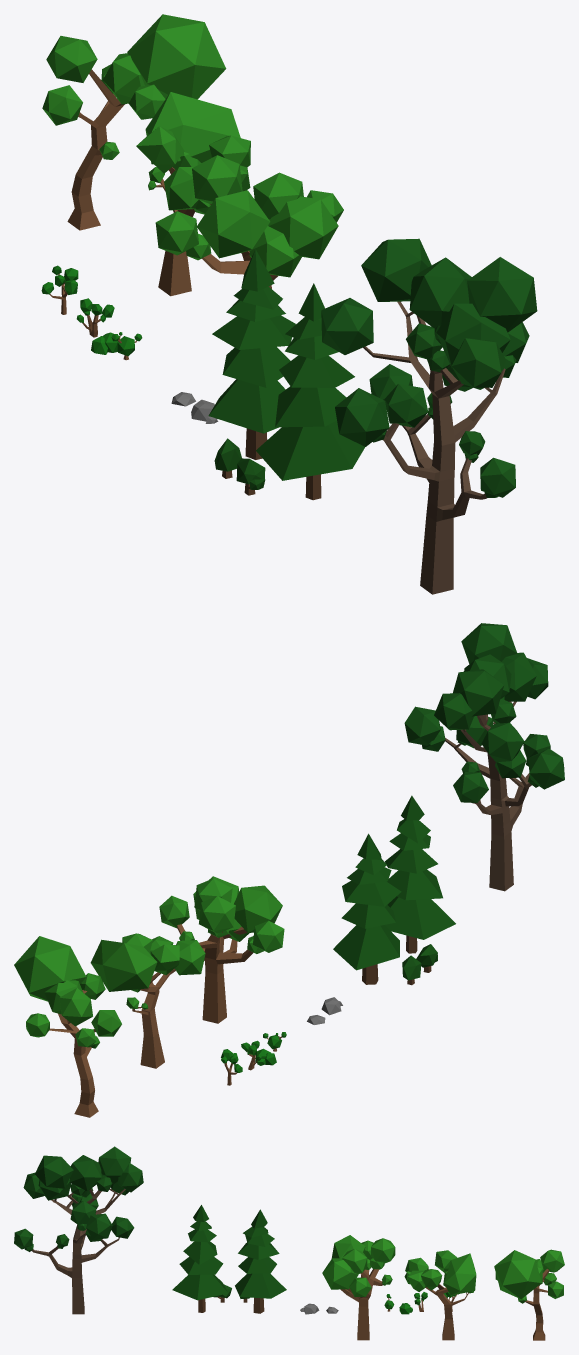
File: MageHunter - Environment(1).fbx
3 renders of one model, top to bottom at view 1: azimuth 30°, elevation 25°; view 2: azimuth 150°, elevation 25°; view 3: azimuth 270°, elevation 25°, orthographic. The views are drawn at different scales.
Parts seen in each view (by area): view 1: Icosphere.024, Cube.002, Tree_1, Tree_2, Tree_2.001, Cube, Cube.003, Icosphere.001, Cube.001, Icosphere; view 2: Icosphere.024, Cube.002, Tree_1, Cube, Tree_2.001, Tree_2; view 3: Icosphere.024, Cube.002, Tree_1, Cube, Tree_2, Tree_2.001.
Part boxes in pixels (x1,y1,x2,y2): Icosphere.024: (321, 238, 537, 594); Cube.002: (155, 155, 343, 288); Tree_1: (42, 14, 226, 230); Tree_2: (256, 283, 364, 500); Tree_2.001: (208, 249, 295, 459); Cube: (136, 92, 250, 296); Cube.003: (41, 265, 78, 314); Icosphere.001: (236, 458, 265, 495); Cube.001: (76, 298, 114, 337); Icosphere: (214, 438, 241, 478); Icosphere.024: (404, 623, 564, 891); Cube.002: (159, 876, 284, 1023); Tree_1: (14, 936, 121, 1117); Cube: (90, 933, 205, 1068); Tree_2.001: (333, 833, 401, 984); Tree_2: (385, 795, 455, 953); Icosphere.024: (14, 1146, 143, 1314); Cube.002: (322, 1235, 395, 1340); Tree_1: (494, 1249, 564, 1340); Cube: (404, 1250, 476, 1340); Tree_2: (172, 1205, 227, 1312); Tree_2.001: (235, 1209, 286, 1313).
Bounding box in the file's own units: 2915 × 2993 × 8943.
